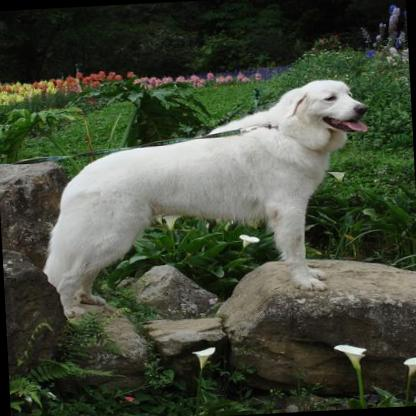Great_Pyrenees: (27, 74, 377, 320)
